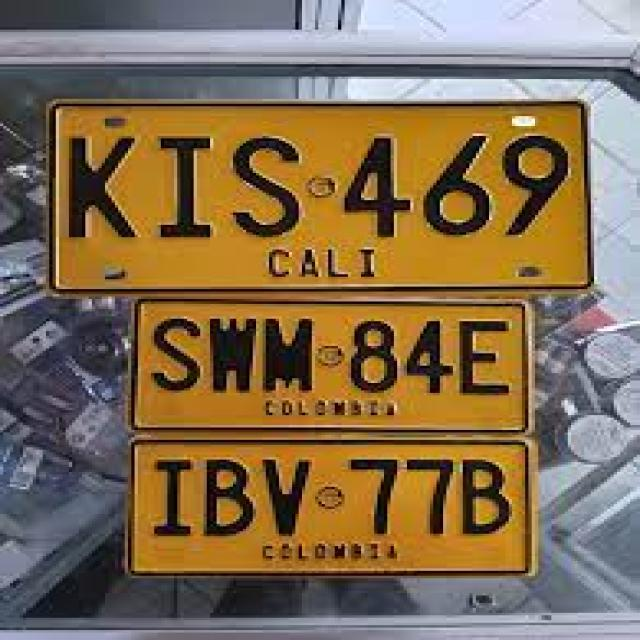placa_carro: (44, 94, 596, 296)
placa_moto: (117, 438, 542, 574), (133, 297, 535, 437)
